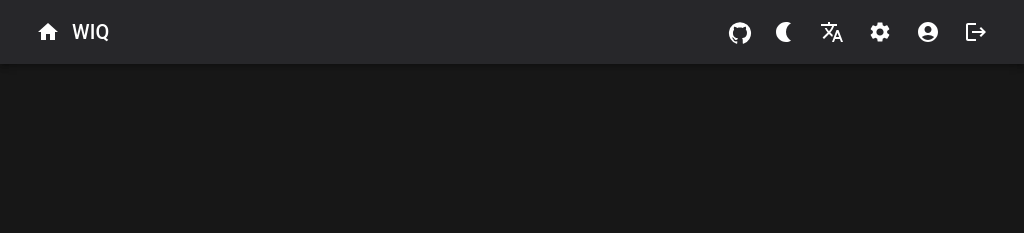
Nav component › opens menu properly
Click the button with test id "open-account-menu" at (928, 32), box [904, 8, 952, 56]
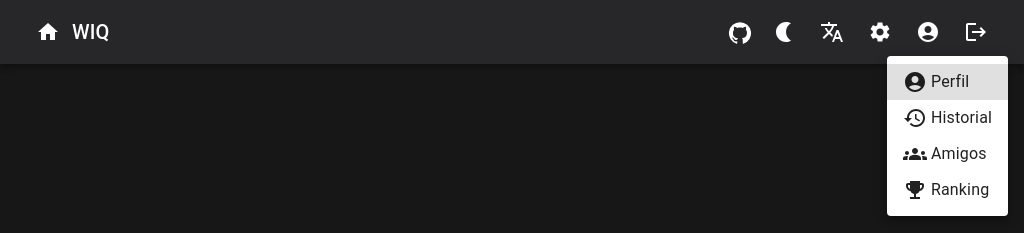
Result: the menu item "Perfil" is shown at [887, 64, 1008, 100]
Result: the menu item "Historial" is shown at [903, 106, 992, 130]
Result: the menu item "Amigos" is shown at [903, 142, 987, 166]
